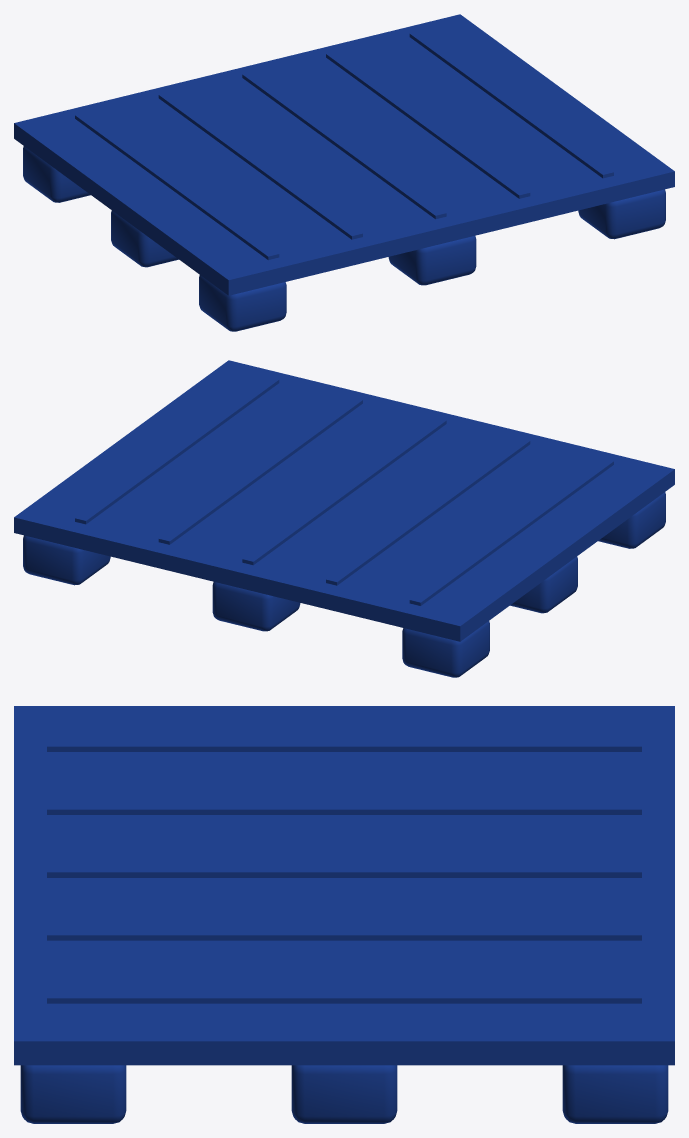
Rendered from plant.store.pallet_plastic.glb.
3 views of the same model, one above another, from view 1: azimuth 30°, elevation 25°; view 2: azimuth 150°, elevation 25°; view 3: azimuth 270°, elevation 25° (orthographic). The views are drawn at different scales.
Parts seen in each view (by area): view 1: main__plastic_blue; view 2: main__plastic_blue; view 3: main__plastic_blue.
Part boxes in pixels (x1=…): main__plastic_blue: x1=14, y1=14, x2=674, y2=331; main__plastic_blue: x1=14, y1=360, x2=674, y2=677; main__plastic_blue: x1=14, y1=706, x2=674, y2=1123.
Bounding box in the file's own units: 1.2 × 0.159 × 1.
